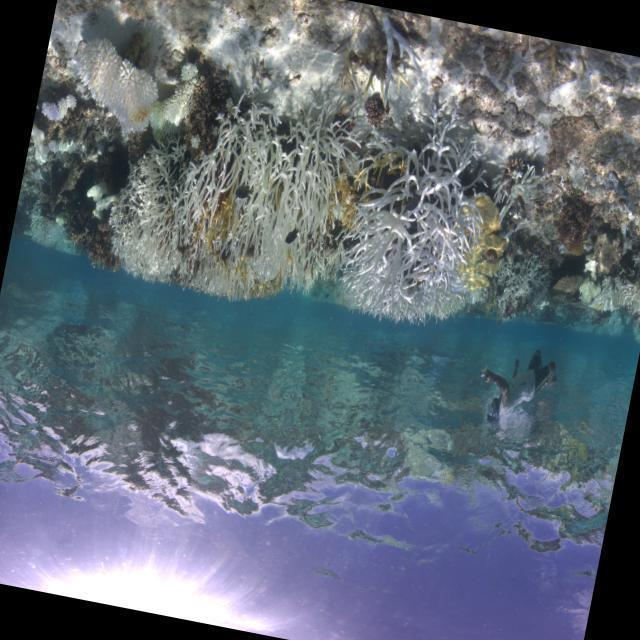Dead Coral: (325, 0, 388, 97)
